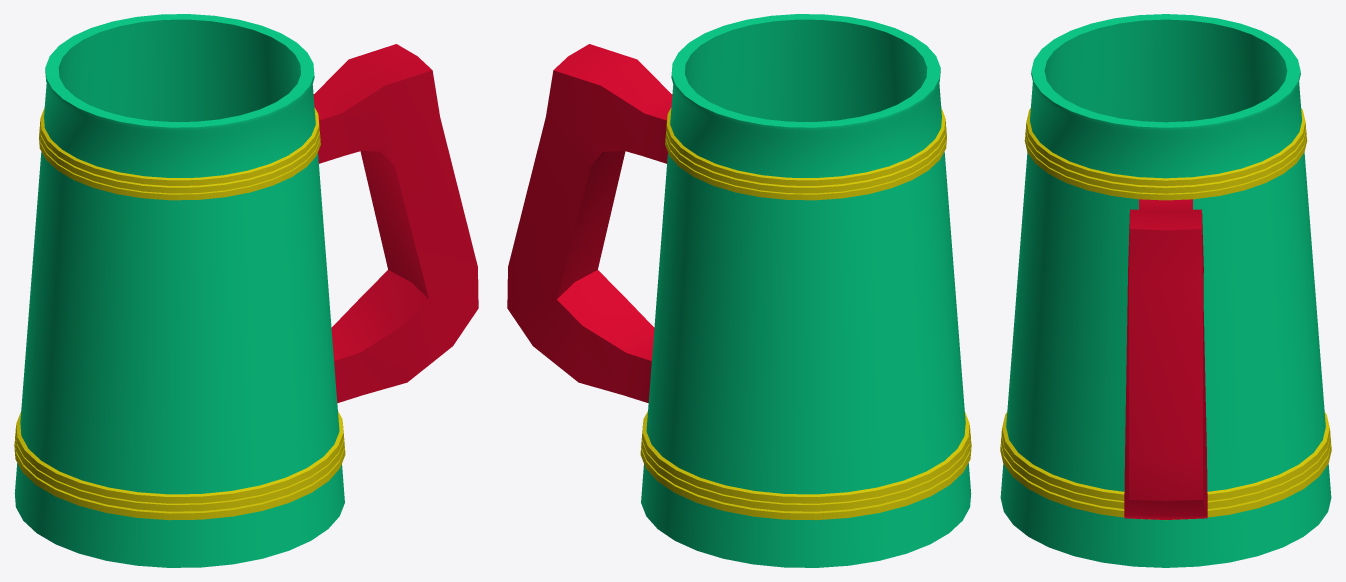
The model's file is beerMug3.fbx.
3 views of the same model, side by side, from view 1: azimuth 30°, elevation 25°; view 2: azimuth 150°, elevation 25°; view 3: azimuth 270°, elevation 25° (orthographic).
Parts seen in each view (by area): view 1: Cylinder; view 2: Cylinder; view 3: Cylinder.
Part boxes in pixels (<box>): Cylinder: <box>14,14,478,567</box>; Cylinder: <box>507,14,971,567</box>; Cylinder: <box>1000,14,1331,567</box>.
Bounding box in the file's own units: 30.4 × 29.07 × 20.46.
